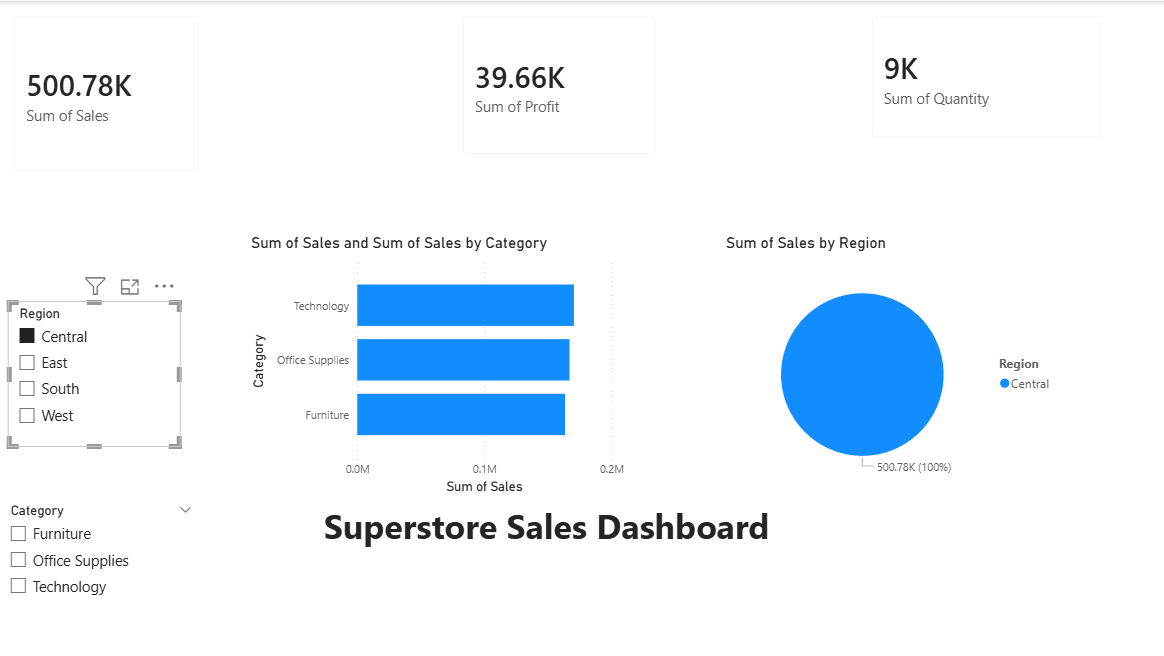

The dashboard page shown, as its layout file describes it:
{"tool":"powerbi","page":{"name":"Page 1","canvas":[1280,720],"ordinal":0},"visuals":[{"type":"cardVisual","fields":{"Data":["Sum(SampleSuperstore.Sales)"]},"box":[0,0,237.4,203.1],"z":0},{"type":"cardVisual","fields":{"Data":["Sum(SampleSuperstore.Profit)"]},"box":[492.6,0,247,185.2],"z":1000},{"type":"cardVisual","fields":{"Data":["Sum(SampleSuperstore.Quantity)"]},"box":[941.3,0,286.8,167.4],"z":2000},{"type":"barChart","fields":{"Y":["Sum(SampleSuperstore.Sales)","Sum(SampleSuperstore.Sales)"],"Category":["SampleSuperstore.Category"]},"box":[271.7,255.2,419.9,290.9],"z":3000},{"type":"pieChart","fields":{"Category":["SampleSuperstore.Region"],"Y":["Sum(SampleSuperstore.Sales)"]},"box":[793.1,255.2,374.6,290.9],"z":3001},{"type":"slicer","fields":{"Values":["SampleSuperstore.Region"]},"box":[9.6,329.3,189.4,160.5],"z":3002},{"type":"slicer","fields":{"Values":["SampleSuperstore.Category"]},"box":[0,546.1,223.7,174.3],"z":3003},{"type":"textbox","box":[271.7,546.1,658.7,60.4],"z":3004}]}

Visuals, with their boxes in screenshot pixels (x1, y1, x2, y2), scaled from the page's 1280x720 canvas onto the 1164x656 screenshot:
cardVisual - Sum(SampleSuperstore.Sales): (x1=0, y1=0, x2=216, y2=185)
cardVisual - Sum(SampleSuperstore.Profit): (x1=448, y1=0, x2=673, y2=169)
cardVisual - Sum(SampleSuperstore.Quantity): (x1=856, y1=0, x2=1117, y2=153)
barChart - Sum(SampleSuperstore.Sales) x Sum(SampleSuperstore.Sales): (x1=247, y1=233, x2=629, y2=498)
pieChart - SampleSuperstore.Region x Sum(SampleSuperstore.Sales): (x1=721, y1=233, x2=1062, y2=498)
slicer - SampleSuperstore.Region: (x1=9, y1=300, x2=181, y2=446)
slicer - SampleSuperstore.Category: (x1=0, y1=498, x2=203, y2=655)
textbox: (x1=247, y1=498, x2=846, y2=553)
